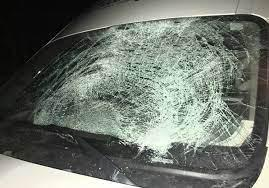Front-Windscreen-Damage: (0, 8, 268, 182)
